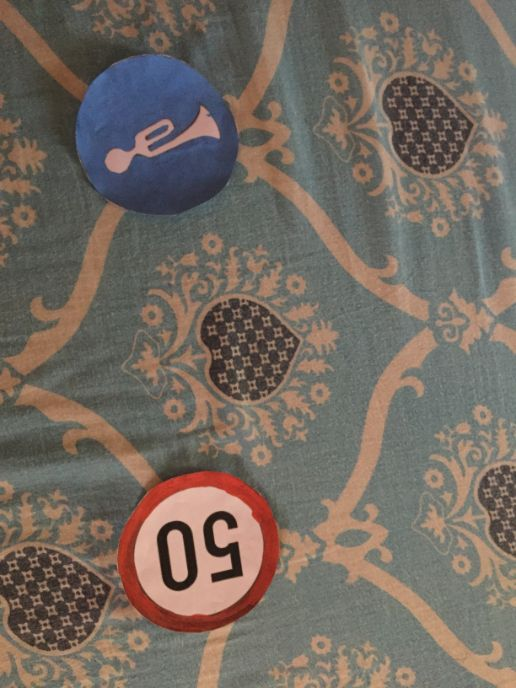blow-horn: (77, 59, 231, 213)
speed-50: (118, 473, 277, 632)
